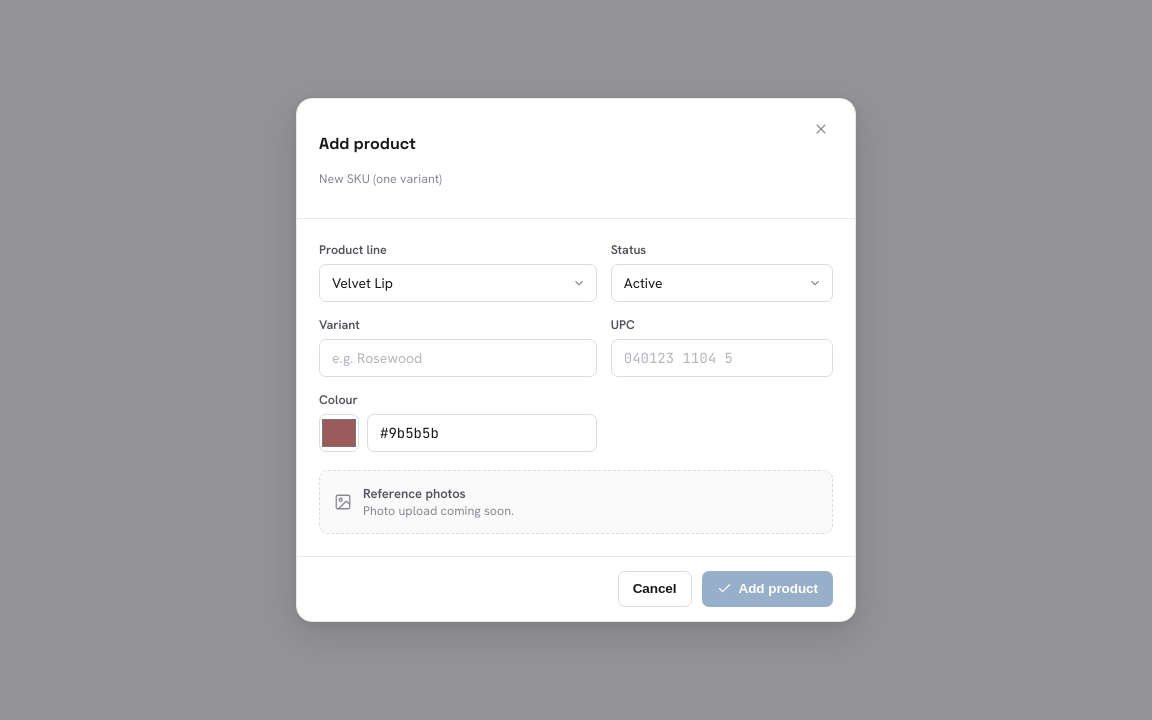
ProductFormModal (add mode) › reveals a new-line input when "+ New line" is chosen
Expected: the field labelled "New line name" is not shown
Select "+ New line..." in the dropdown labelled "Product line" at (458, 283), box [319,264,597,302]
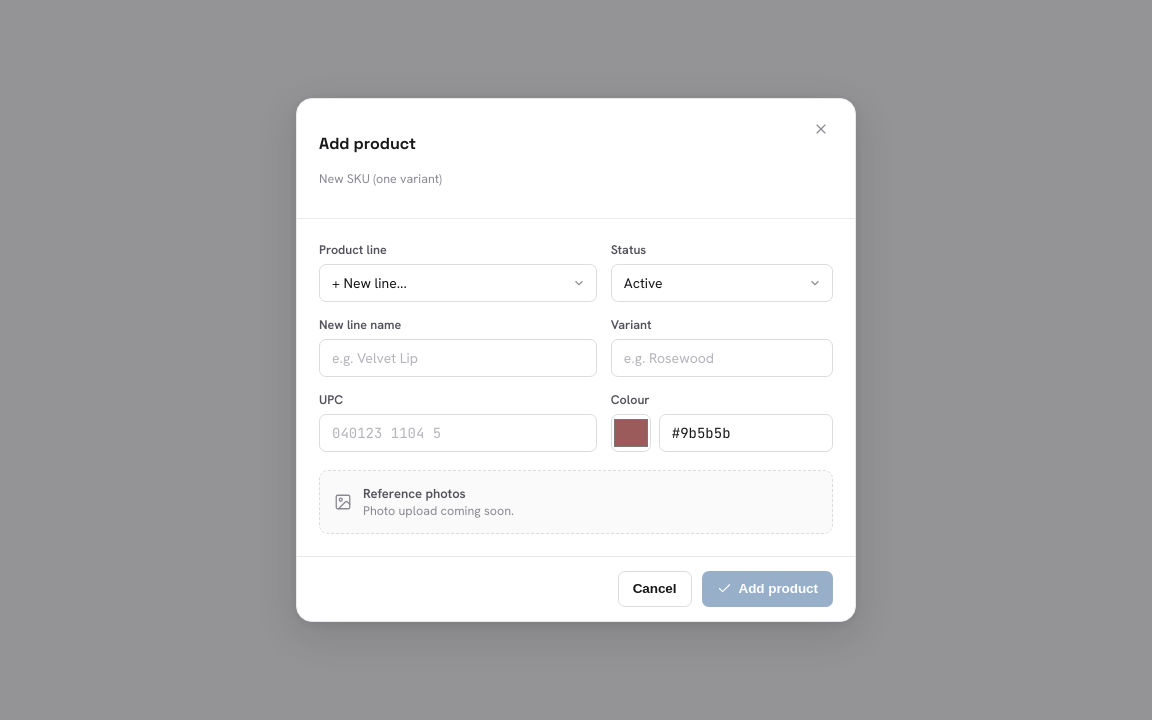
Expected: the field labelled "New line name" is shown, [319,339,597,377]
